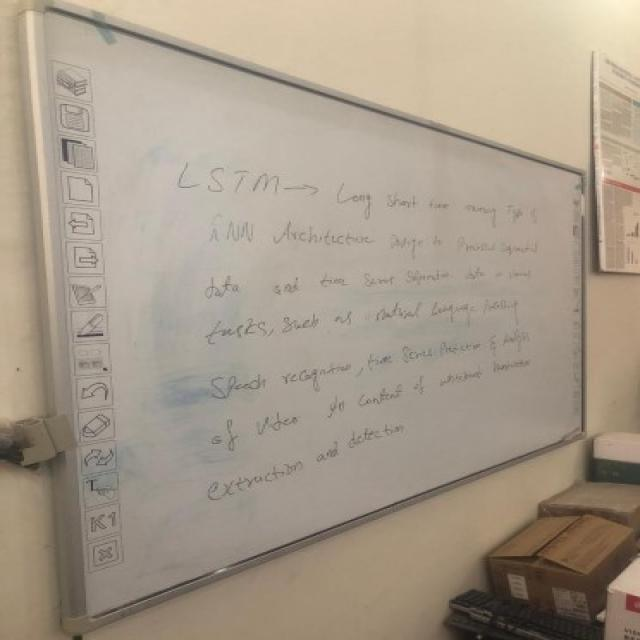White-board: (30, 7, 589, 616)
